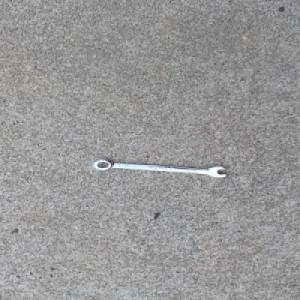Wrench: (90, 158, 228, 179)
